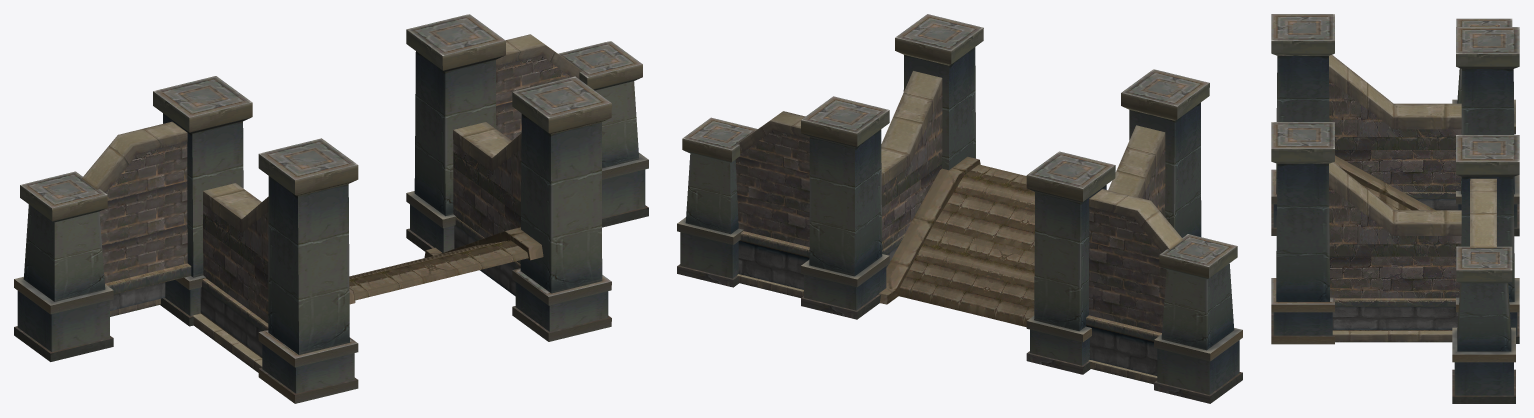
File: chengmen01.FBX
3 renders of one model, left to right at view 1: azimuth 30°, elevation 25°; view 2: azimuth 150°, elevation 25°; view 3: azimuth 270°, elevation 25°, orthographic. The views are drawn at different scales.
Visible parts, largest first — view 1: Object24, Object01; view 2: Object24, Object01; view 3: Object24, Object01.
Boxes of the visible parts, box(x1,y1,x2,y2) form: Object24: box(14, 14, 648, 403); Object01: box(81, 34, 581, 372); Object24: box(677, 14, 1242, 403); Object01: box(735, 71, 1183, 384); Object24: box(1271, 14, 1519, 403); Object01: box(1329, 26, 1496, 342).
Bounding box in the file's own units: 1232 × 440 × 507.
